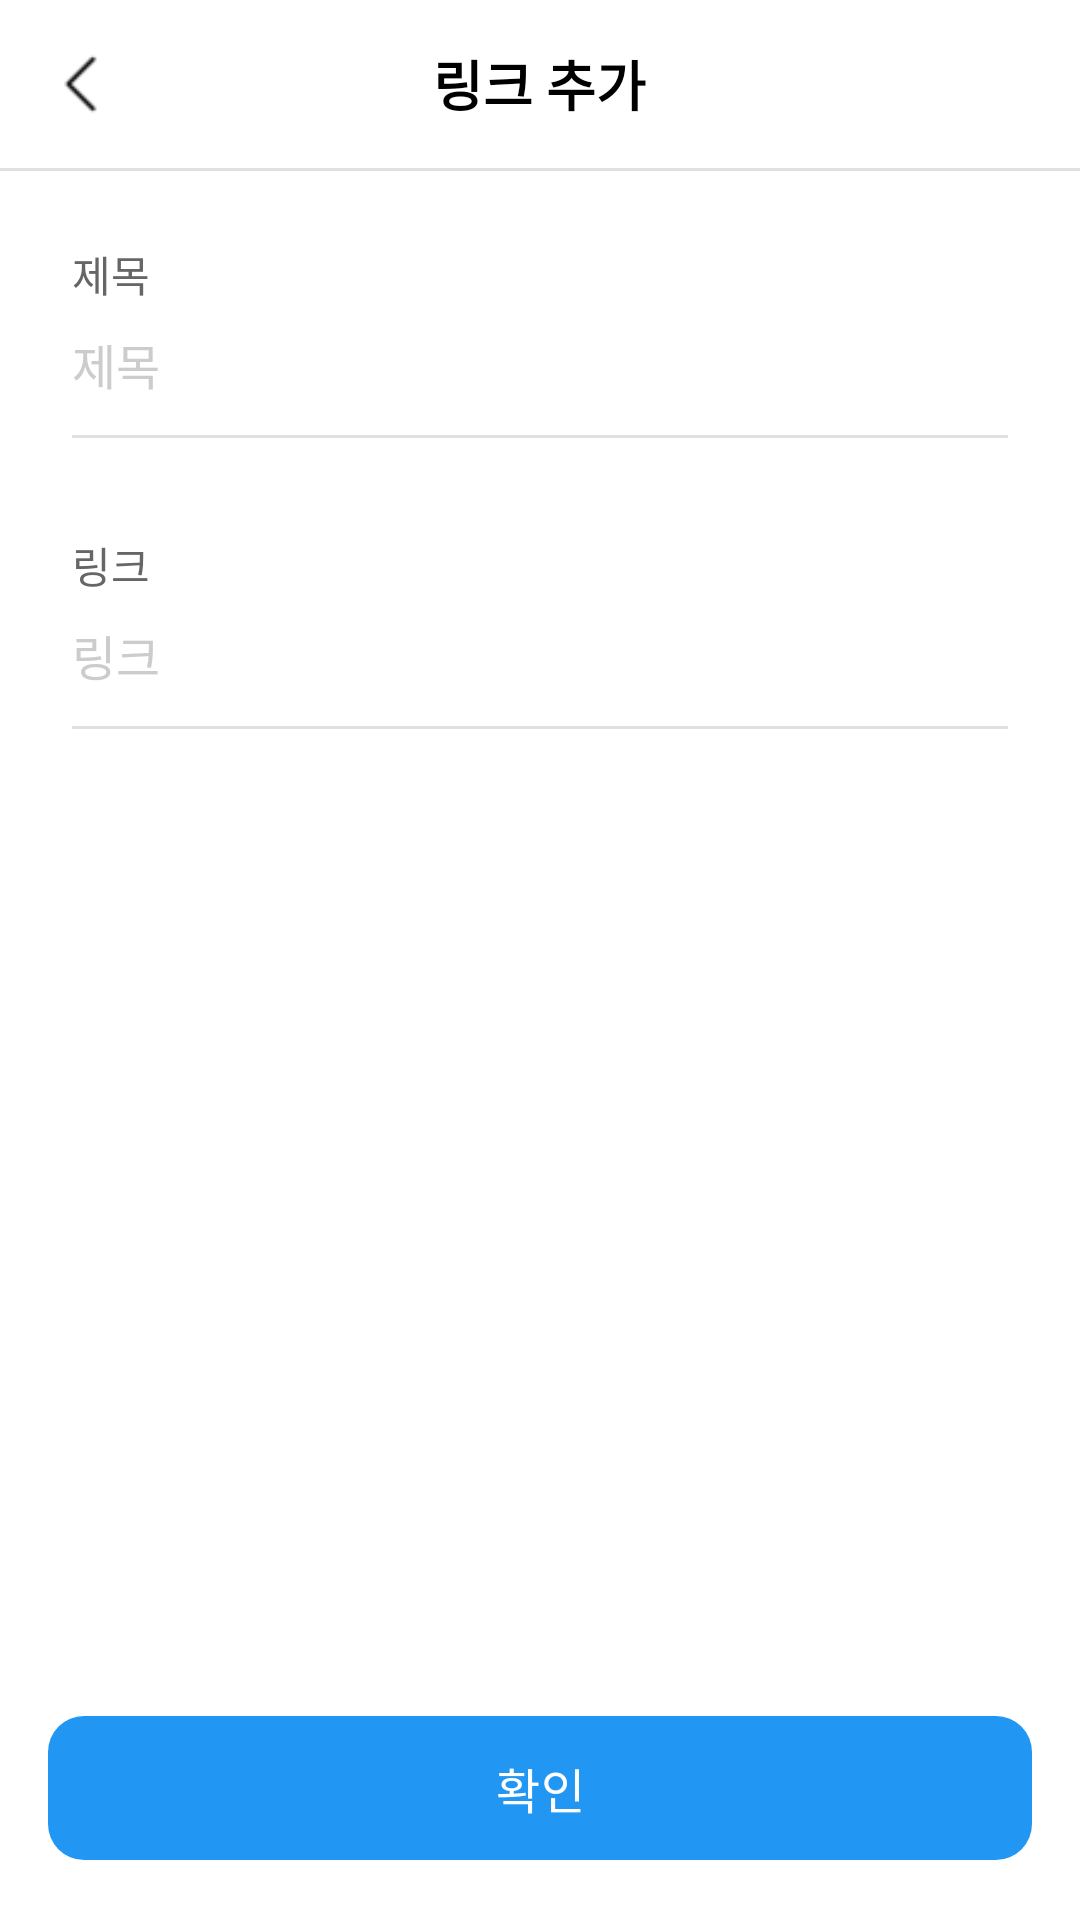

Icon bounding boxes for this 1080px×1920px phone screenshot, format (x1, y1, x2, y2):
left arrow: (65, 56, 97, 112)
